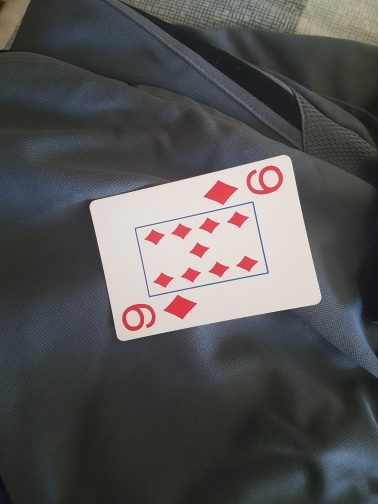nine: (88, 154, 323, 342)
